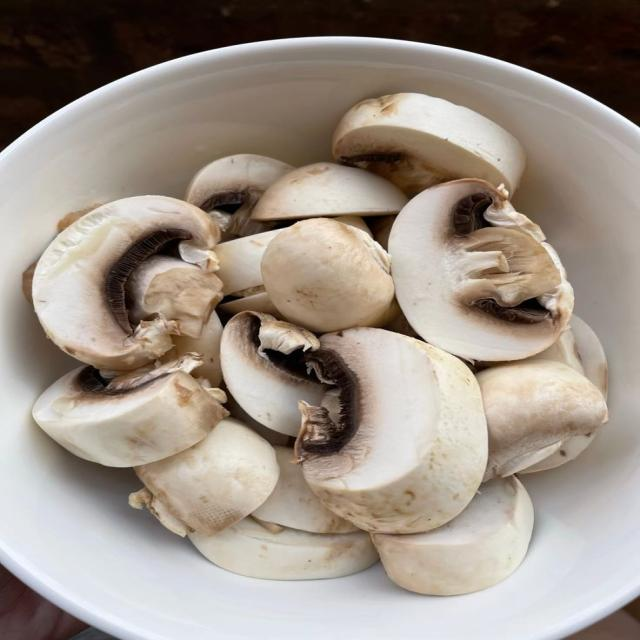champignon mushrooms: (296, 328, 486, 533), (389, 180, 573, 360), (33, 196, 219, 369), (34, 354, 227, 467), (333, 94, 525, 195), (373, 477, 533, 594), (129, 418, 279, 535), (477, 360, 607, 480), (261, 218, 394, 332), (220, 312, 327, 436), (189, 518, 378, 579), (254, 447, 358, 533), (252, 163, 406, 221), (186, 154, 293, 236), (126, 256, 222, 338), (535, 314, 608, 399), (535, 314, 607, 400), (216, 229, 283, 296), (163, 312, 222, 386), (216, 230, 282, 296), (223, 387, 294, 446), (217, 290, 280, 317), (57, 203, 102, 232), (370, 216, 395, 250), (23, 261, 37, 304)
